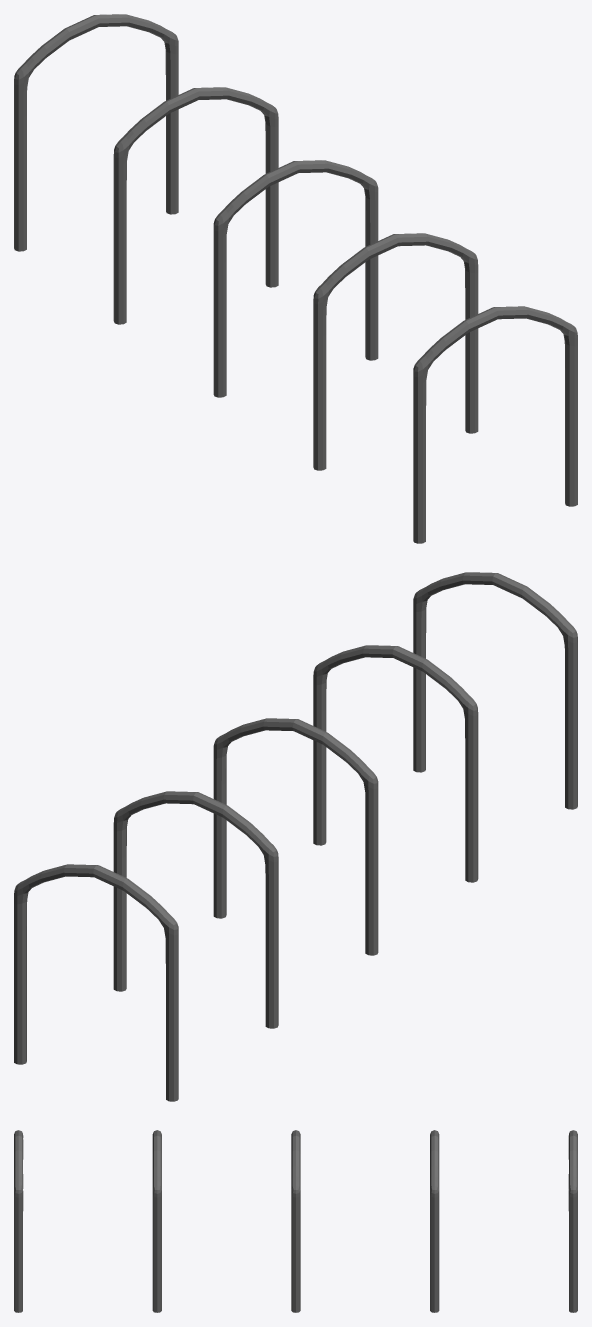
The model's file is Puisto_Polkupyörä_Teline.fbx.
The picture shows the model from 3 angles, top to bottom: view 1: azimuth 30°, elevation 25°; view 2: azimuth 150°, elevation 25°; view 3: azimuth 270°, elevation 25°; orthographic projection. The views are drawn at different scales.
Parts seen in each view (by area): view 1: Plane; view 2: Plane; view 3: Plane.
Boxes of the visible parts, box(x1,y1,x2,y2) form: Plane: box(14, 14, 577, 543); Plane: box(14, 572, 577, 1101); Plane: box(14, 1130, 577, 1312).
Size of the model in its own units: 66.1 by 83.32 by 285.
